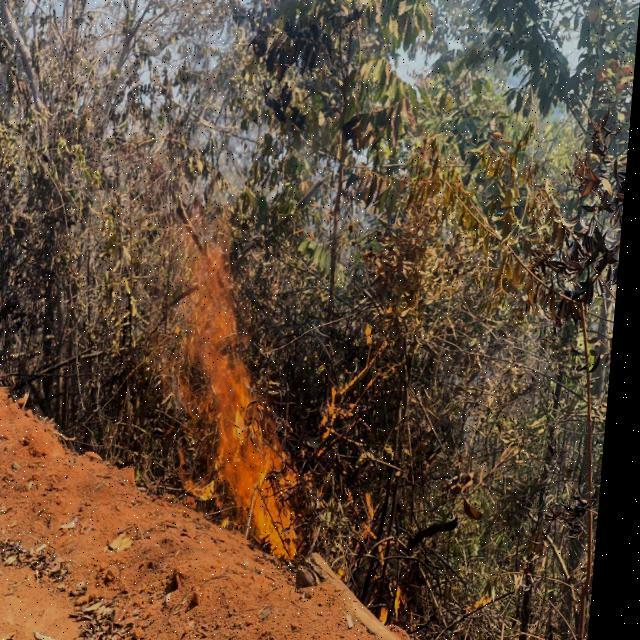Fire: (168, 243, 338, 562)
